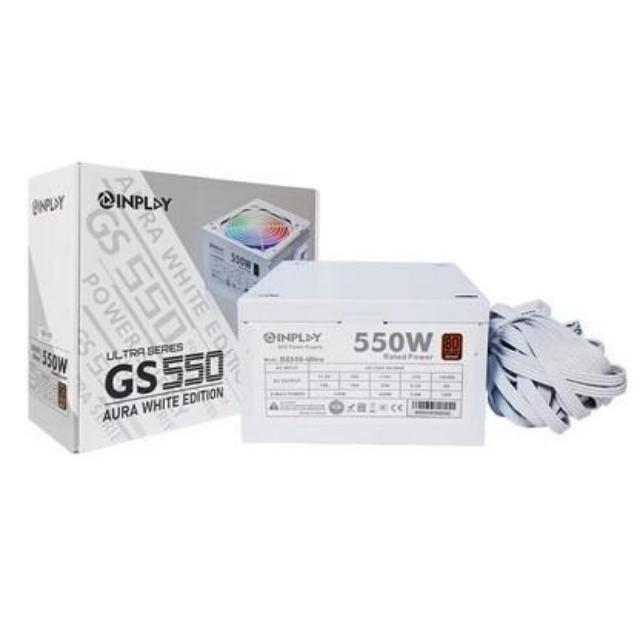PSU: (228, 252, 516, 450), (196, 192, 313, 280)
